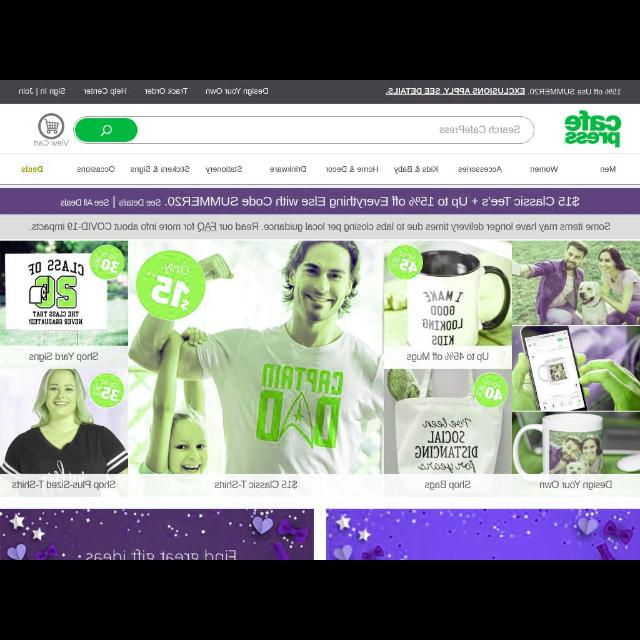button: (76, 118, 136, 142)
icon: (37, 114, 64, 138), (98, 124, 112, 138)
image: (128, 239, 382, 473), (1, 508, 312, 558), (329, 511, 639, 559), (384, 240, 512, 346), (2, 240, 128, 346), (384, 370, 511, 474), (0, 370, 126, 472), (513, 240, 639, 326), (510, 326, 638, 410), (512, 412, 638, 472), (564, 113, 624, 147)
input: (72, 116, 534, 144)
multitab: (1, 155, 639, 185)
text: (164, 194, 580, 208), (28, 222, 610, 232), (386, 86, 620, 98), (11, 480, 114, 492), (440, 124, 520, 138), (406, 351, 488, 364), (28, 351, 98, 363), (214, 480, 296, 490), (539, 480, 613, 490), (424, 478, 471, 490), (207, 88, 269, 96), (393, 165, 439, 175), (62, 198, 108, 208), (32, 138, 68, 150), (325, 166, 379, 174), (130, 165, 190, 172), (119, 198, 161, 208), (205, 165, 242, 175), (270, 165, 306, 175), (84, 88, 128, 96), (144, 88, 188, 96), (456, 166, 500, 174), (78, 167, 115, 176), (531, 163, 559, 174), (41, 85, 65, 97), (23, 164, 41, 173), (600, 168, 616, 175), (20, 87, 32, 95)
toolbar: (1, 104, 636, 152)
